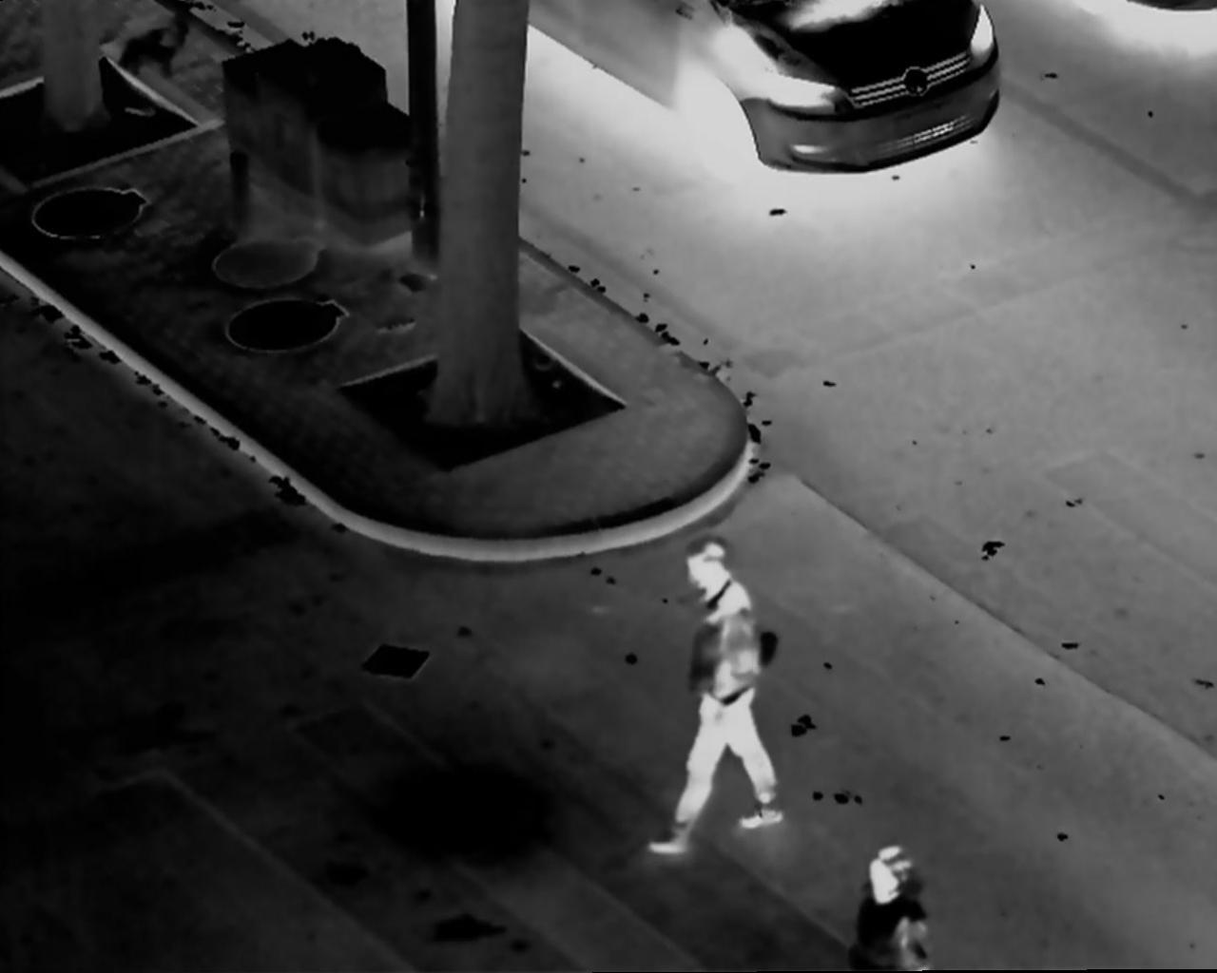person: (653, 530, 788, 858), (848, 845, 934, 973)
